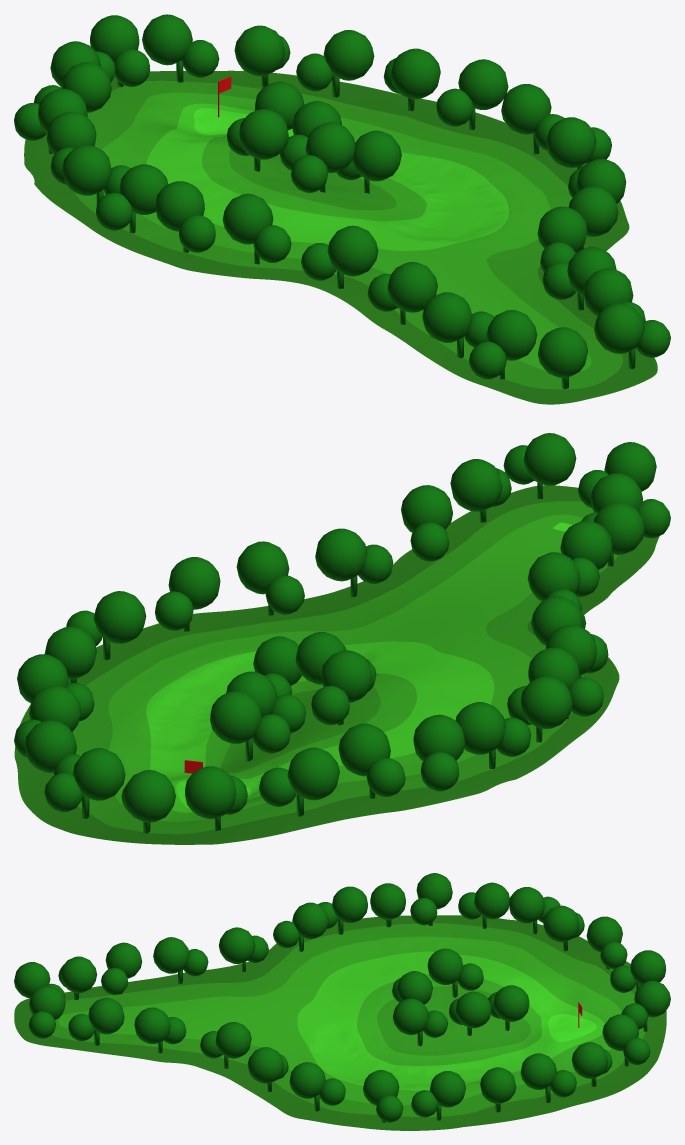
Rendered from choice.glb.
3 renders of one model, top to bottom at view 1: azimuth 30°, elevation 25°; view 2: azimuth 150°, elevation 25°; view 3: azimuth 270°, elevation 25°, orthographic. The views are drawn at different scales.
Visible parts, largest first — view 1: OB, heavy-rough, rough, fairway, rough2, heavy-rough2, Sphere.016, Sphere.018, Sphere.014, Sphere.007, Sphere.004, Sphere.032 (+29 smaller); view 2: OB, rough, heavy-rough, fairway, rough2, Sphere.019, Sphere.017, Sphere.025, heavy-rough2, Sphere.003, Sphere.010, Sphere.026 (+28 smaller); view 3: OB, rough, heavy-rough, fairway, heavy-rough2, rough2, Sphere.011, Sphere.015, Sphere.001, Sphere.021, Sphere.013, Sphere.032 (+29 smaller).
Boxes of the visible parts, <box> form: OB: <box>24,70,657,404</box>; heavy-rough: <box>74,80,623,389</box>; rough: <box>102,92,591,371</box>; fairway: <box>150,105,505,249</box>; rough2: <box>202,135,426,221</box>; heavy-rough2: <box>229,148,396,210</box>; Sphere.016: <box>296,30,374,97</box>; Sphere.018: <box>142,14,219,82</box>; Sphere.014: <box>436,59,508,129</box>; Sphere.007: <box>594,303,670,368</box>; Sphere.004: <box>301,225,378,288</box>; Sphere.032: <box>222,193,291,264</box>; OB: <box>14,485,659,844</box>; rough: <box>108,514,582,821</box>; heavy-rough: <box>72,501,618,834</box>; fairway: <box>150,642,490,811</box>; rough2: <box>205,673,416,778</box>; Sphere.019: <box>210,691,290,761</box>; Sphere.017: <box>44,748,125,818</box>; Sphere.025: <box>259,747,339,816</box>; heavy-rough2: <box>220,686,380,773</box>; Sphere.003: <box>315,528,393,596</box>; Sphere.010: <box>236,541,304,615</box>; Sphere.026: <box>338,723,405,798</box>; OB: <box>14,915,666,1130</box>; rough: <box>58,936,621,1105</box>; heavy-rough: <box>51,923,647,1117</box>; fairway: <box>300,953,602,1089</box>; heavy-rough2: <box>377,985,530,1055</box>; rough2: <box>357,974,541,1065</box>; Sphere.011: <box>289,1062,345,1111</box>; Sphere.015: <box>520,1053,576,1102</box>; Sphere.001: <box>68,997,124,1045</box>; Sphere.021: <box>427,948,483,997</box>; Sphere.013: <box>411,1071,465,1120</box>; Sphere.032: <box>273,902,328,951</box>.
Bounding box in the file's own units: 1.16 × 0.2617 × 1.78.
